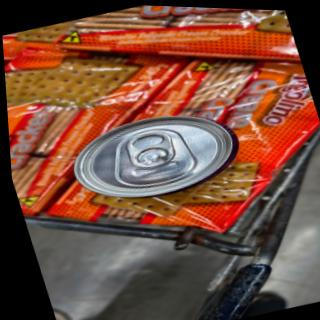beverage: (48, 91, 263, 223)
